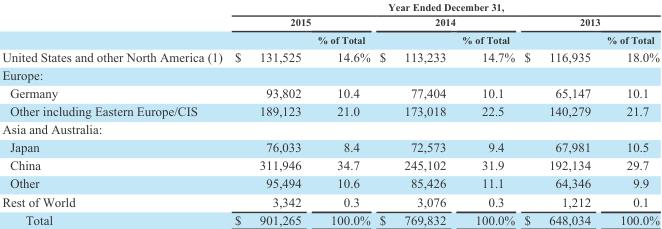table: (1, 0, 659, 226)
table column: (1, 0, 227, 226), (227, 0, 308, 226), (518, 0, 598, 226), (374, 0, 453, 226), (308, 0, 374, 226), (453, 0, 518, 226), (598, 0, 659, 226)
table column header: (1, 0, 659, 65)
table projected row header: (1, 65, 659, 83), (1, 119, 659, 137)
table row: (1, 30, 659, 65), (1, 155, 659, 174), (1, 65, 659, 83), (1, 83, 659, 101), (1, 101, 659, 119), (1, 119, 659, 137), (1, 137, 659, 155), (1, 174, 659, 192), (1, 192, 659, 210), (1, 14, 659, 30), (1, 210, 659, 226), (1, 0, 659, 14)
table spanning cell: (1, 0, 227, 65), (227, 0, 659, 14), (227, 14, 374, 30), (374, 14, 518, 30), (518, 14, 659, 30)
